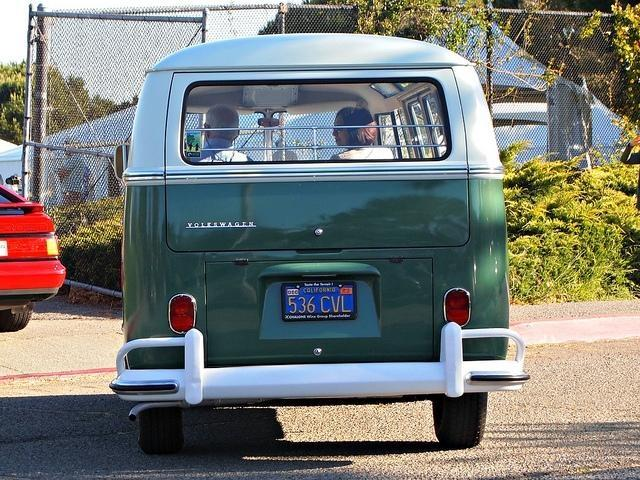bus: (110, 31, 532, 456)
car: (0, 184, 71, 336)
